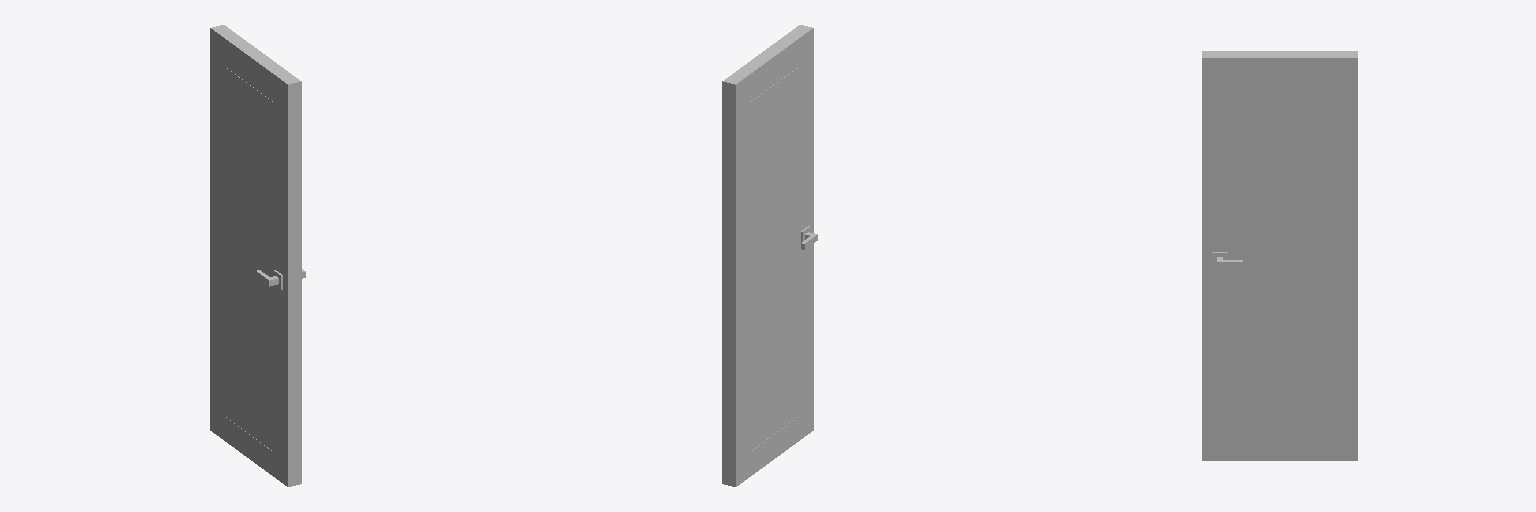
Rendered from door702_.obj.
The picture shows the model from 3 angles: view 1: azimuth 30°, elevation 25°; view 2: azimuth 150°, elevation 25°; view 3: azimuth 270°, elevation 25°; orthographic projection.
Visible parts, largest first — view 1: Cube_Cube; view 2: Cube_Cube; view 3: Cube_Cube.
Boxes of the visible parts, box(x1,y1,x2,y2) form: Cube_Cube: box(210, 25, 305, 486); Cube_Cube: box(722, 25, 817, 486); Cube_Cube: box(1202, 51, 1357, 460).
Size of the model in its own units: 0.19 by 2 by 0.6998.